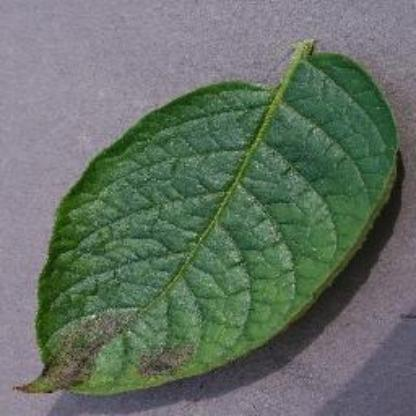Late-Blight: (18, 36, 400, 398)
